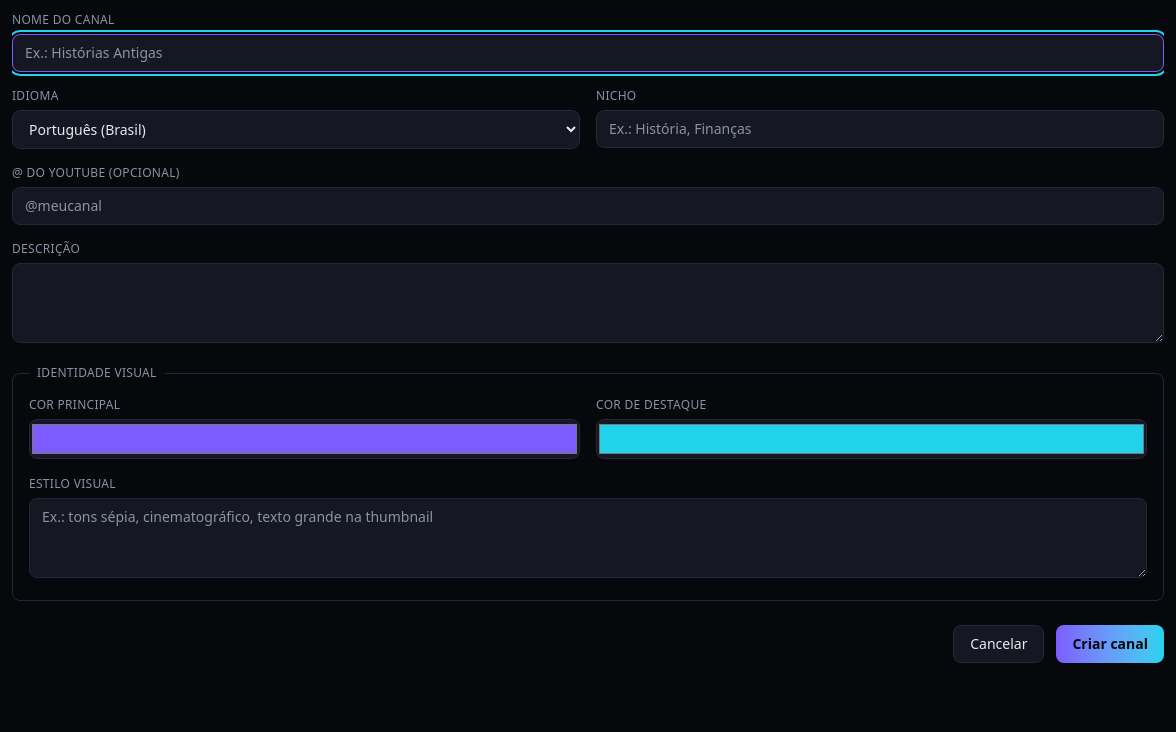
ChannelForm › mostra erros de validação e não envia dados inválidos
The image size is (1176, 732).
Click the button "Criar canal" at [1110, 644], box [1056, 625, 1164, 663]
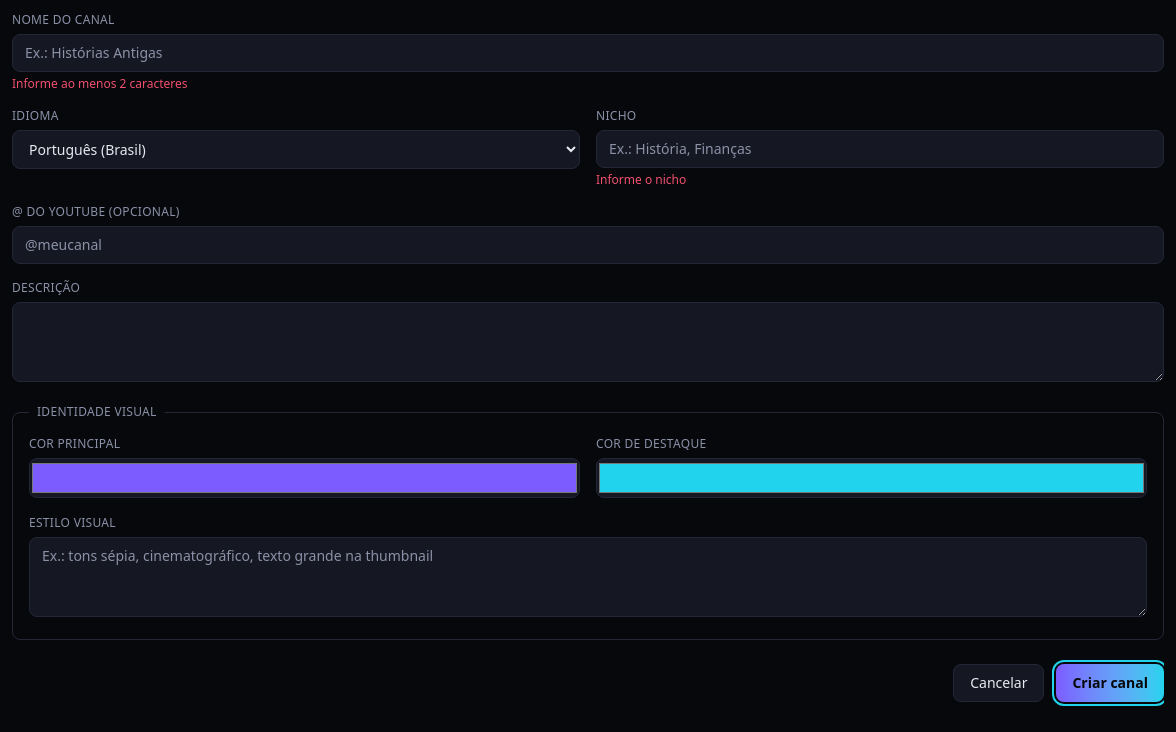
expect the text "Informe ao menos 2 caracteres" is shown: met, box [12, 75, 188, 92]
